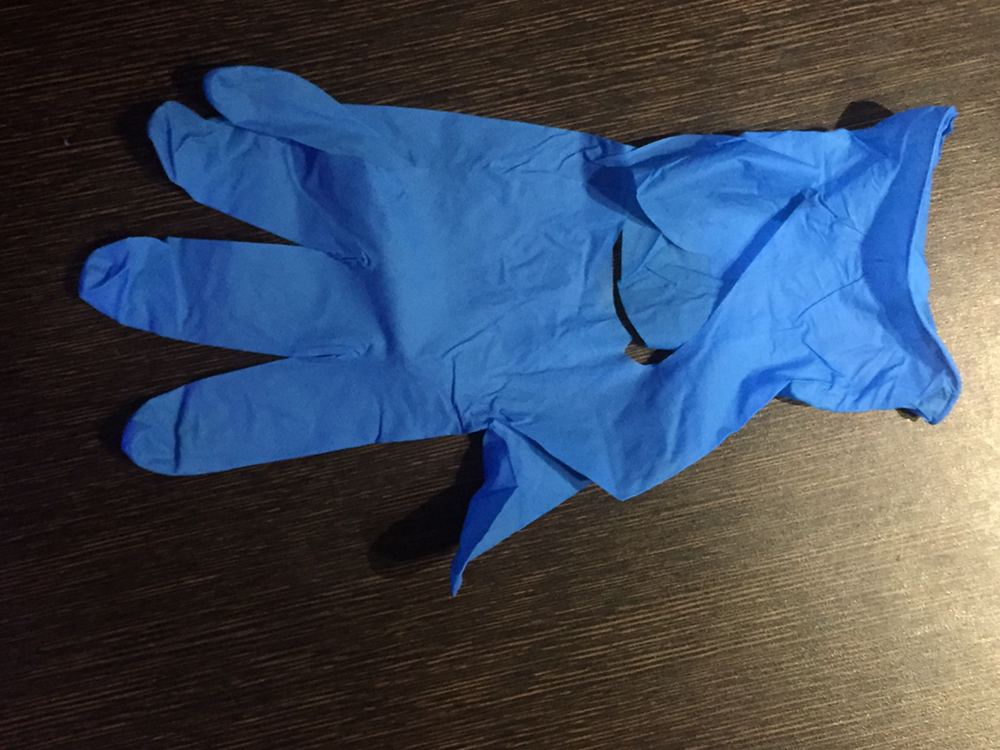defected: (75, 49, 961, 556)
